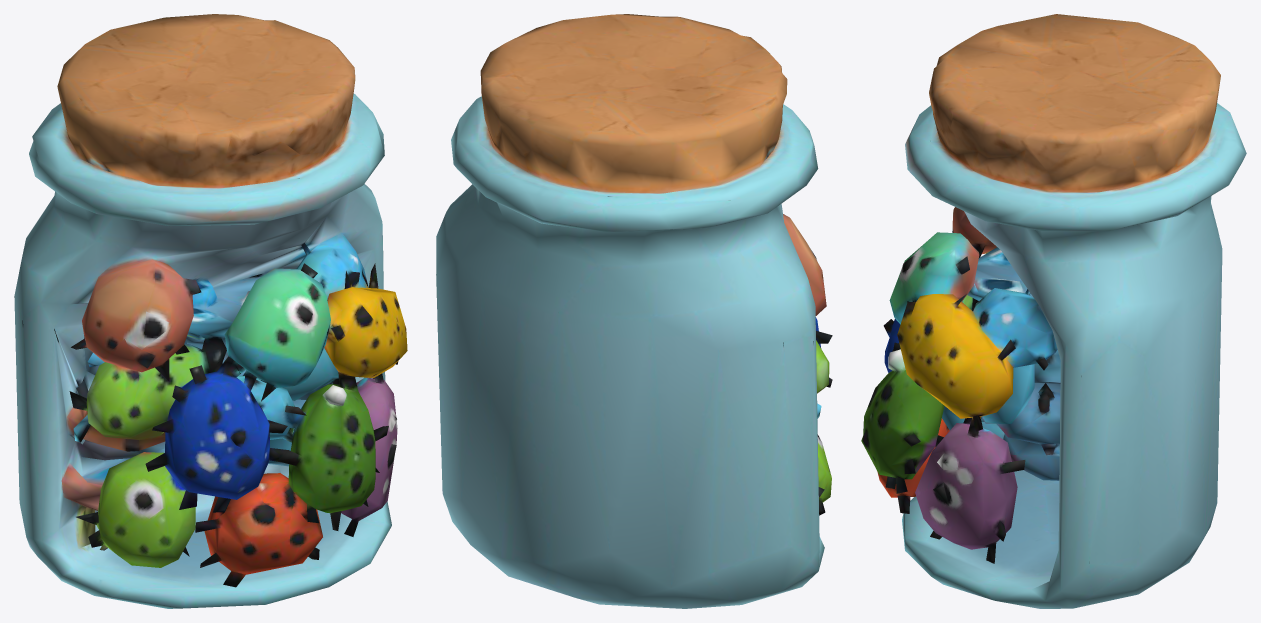
File: bug_jar.glb
The picture shows the model from 3 angles, left to right: view 1: azimuth 30°, elevation 25°; view 2: azimuth 150°, elevation 25°; view 3: azimuth 270°, elevation 25°; orthographic projection. The views are drawn at different scales.
Visible parts, largest first — view 1: low; view 2: low; view 3: low.
Boxes of the visible parts, x1,y1,x2,y2 form: low: (14, 14, 407, 608); low: (436, 14, 832, 608); low: (861, 14, 1246, 608).
Size of the model in its own units: 0.7873 by 0.9794 by 0.7387.
Materials: 1 (1 with a texture image).
